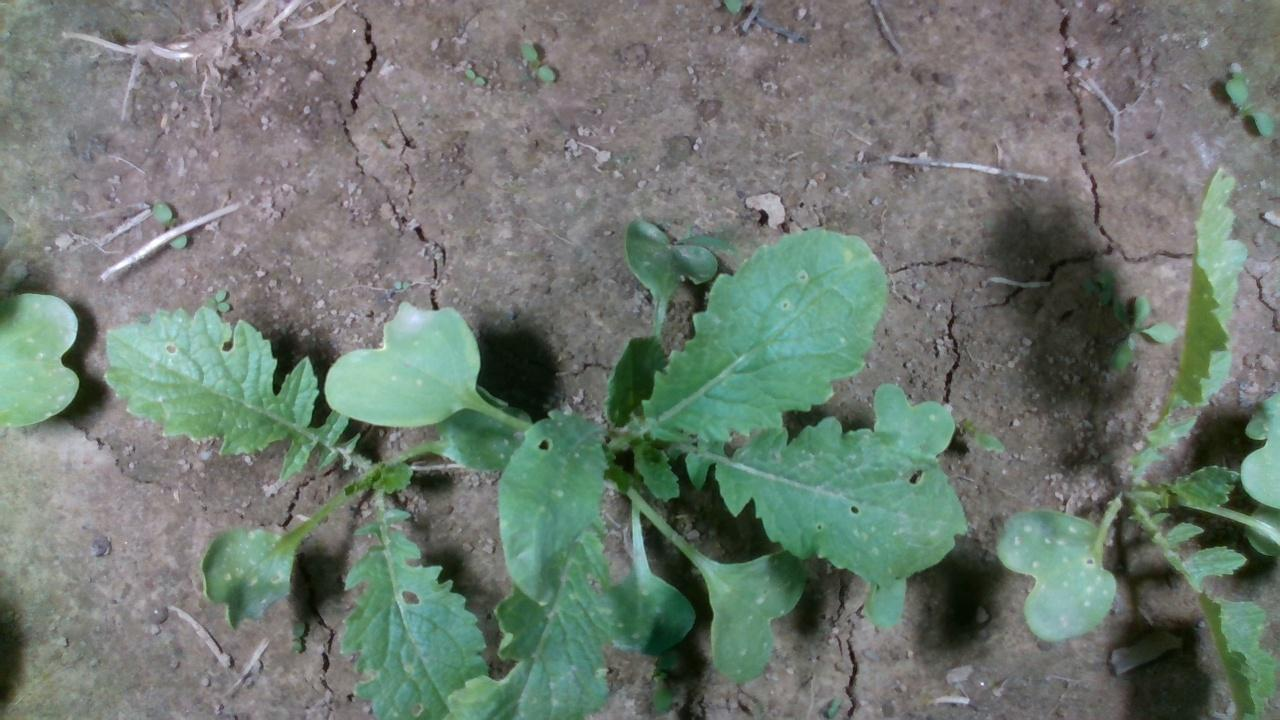weed: (1224, 76, 1274, 138), (517, 40, 556, 81), (461, 66, 485, 86)
